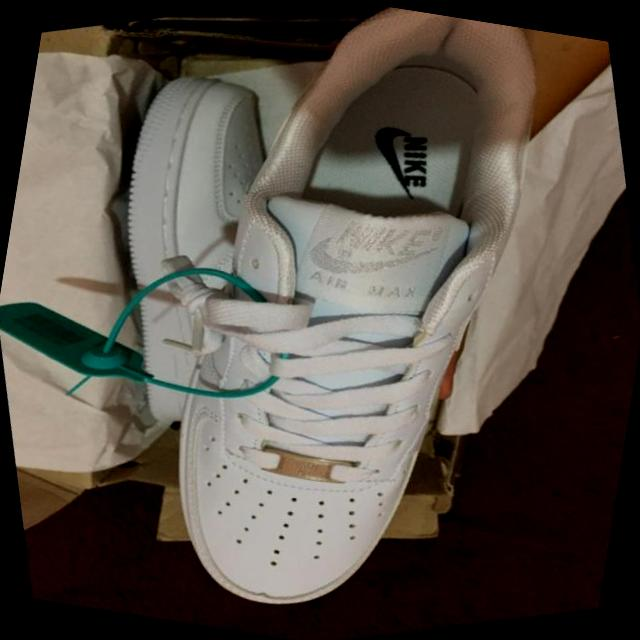nike_fake_airforce: (3, 0, 640, 640), (45, 42, 358, 459)
